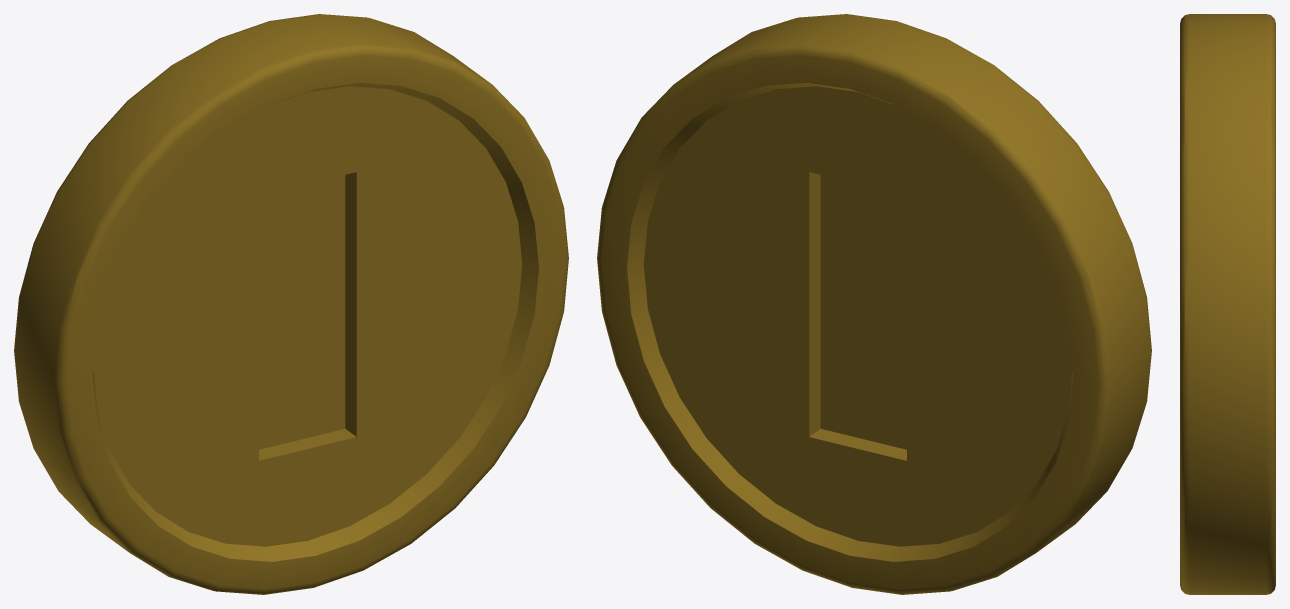
The model's file is coin.glb.
3 views of the same model, side by side, from view 1: azimuth 30°, elevation 25°; view 2: azimuth 150°, elevation 25°; view 3: azimuth 270°, elevation 25° (orthographic).
Visible parts, largest first — view 1: Coin; view 2: Coin; view 3: Coin.
Boxes of the visible parts, x1,y1,x2,y2 form: Coin: [14, 14, 568, 594]; Coin: [597, 14, 1151, 594]; Coin: [1180, 14, 1275, 594].
Size of the model in its own units: 0.7848 by 0.7848 by 0.1295.
